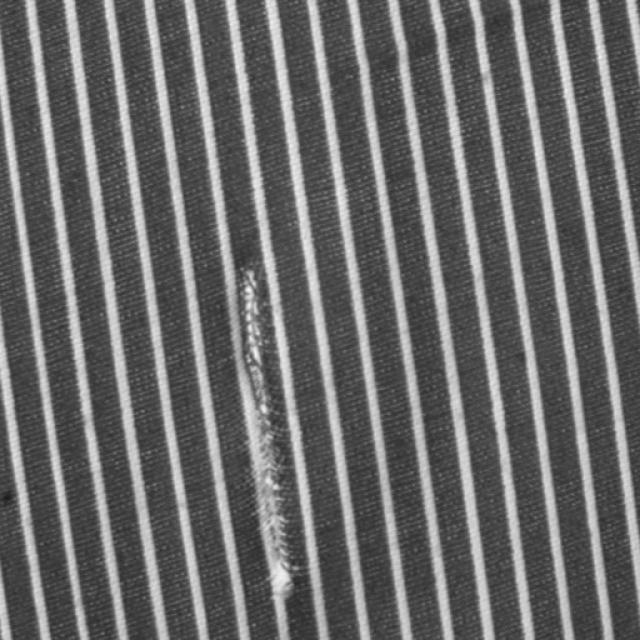Hole-Defect: (239, 268, 299, 599)
